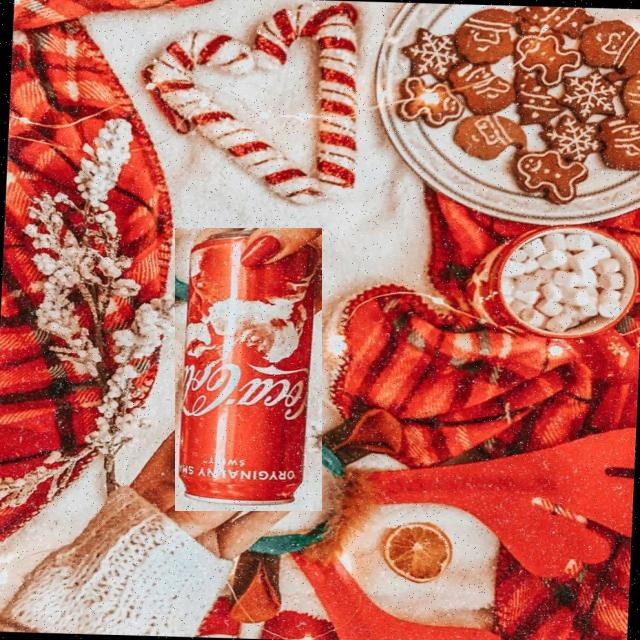coca-cola: (175, 228, 322, 511)
